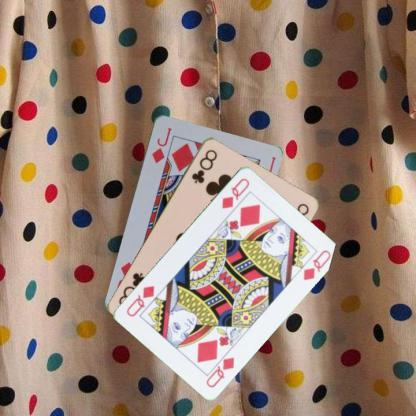8c: (188, 146, 218, 185)
Jd: (148, 124, 174, 164)
Qd: (203, 347, 236, 389), (219, 175, 251, 210)
